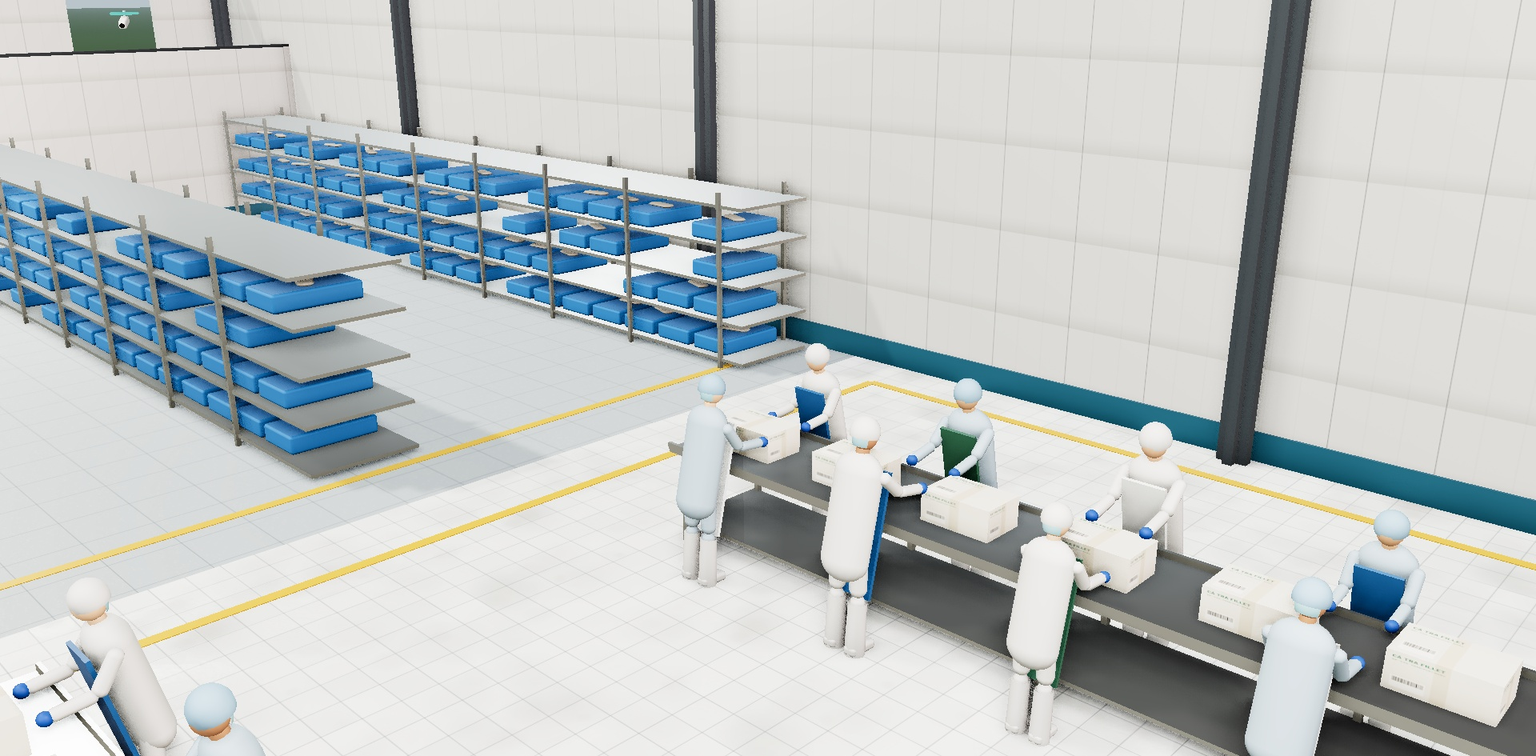apron: (1334, 554, 1416, 703), (1251, 625, 1341, 756), (65, 627, 155, 756), (1110, 468, 1181, 614), (1016, 545, 1083, 689), (834, 460, 893, 602), (935, 420, 991, 547), (688, 414, 738, 538), (794, 381, 839, 493), (179, 738, 283, 756)
glove: (31, 705, 59, 734), (8, 677, 35, 705), (1346, 650, 1369, 676), (1280, 627, 1302, 652), (1381, 615, 1403, 638), (1135, 522, 1156, 545), (1082, 505, 1102, 527), (1319, 595, 1339, 617), (912, 478, 931, 499), (1095, 567, 1113, 588), (1046, 549, 1064, 570), (945, 464, 963, 484), (870, 464, 888, 484), (903, 451, 921, 470), (721, 422, 737, 439), (755, 434, 770, 451), (765, 409, 780, 424), (798, 420, 813, 435)
hairnet: (166, 663, 248, 741), (52, 563, 120, 623), (1284, 562, 1344, 620), (1366, 498, 1419, 546), (1033, 490, 1083, 537), (1130, 412, 1181, 456), (842, 405, 890, 448), (946, 370, 989, 408), (691, 365, 733, 402), (798, 336, 836, 369)
person: (0, 542, 213, 756), (1068, 399, 1216, 693), (1296, 482, 1452, 756), (984, 473, 1122, 756), (1212, 540, 1386, 756), (803, 390, 935, 672), (79, 634, 347, 756), (898, 360, 1021, 614), (657, 354, 771, 598), (765, 328, 865, 550), (0, 733, 99, 756)
